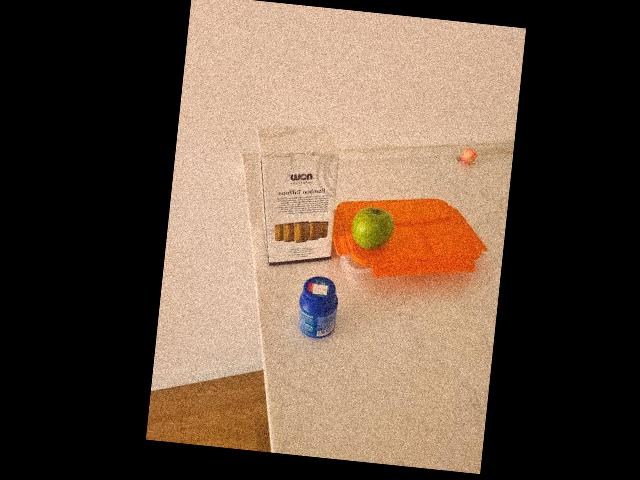apple: (345, 203, 394, 251)
